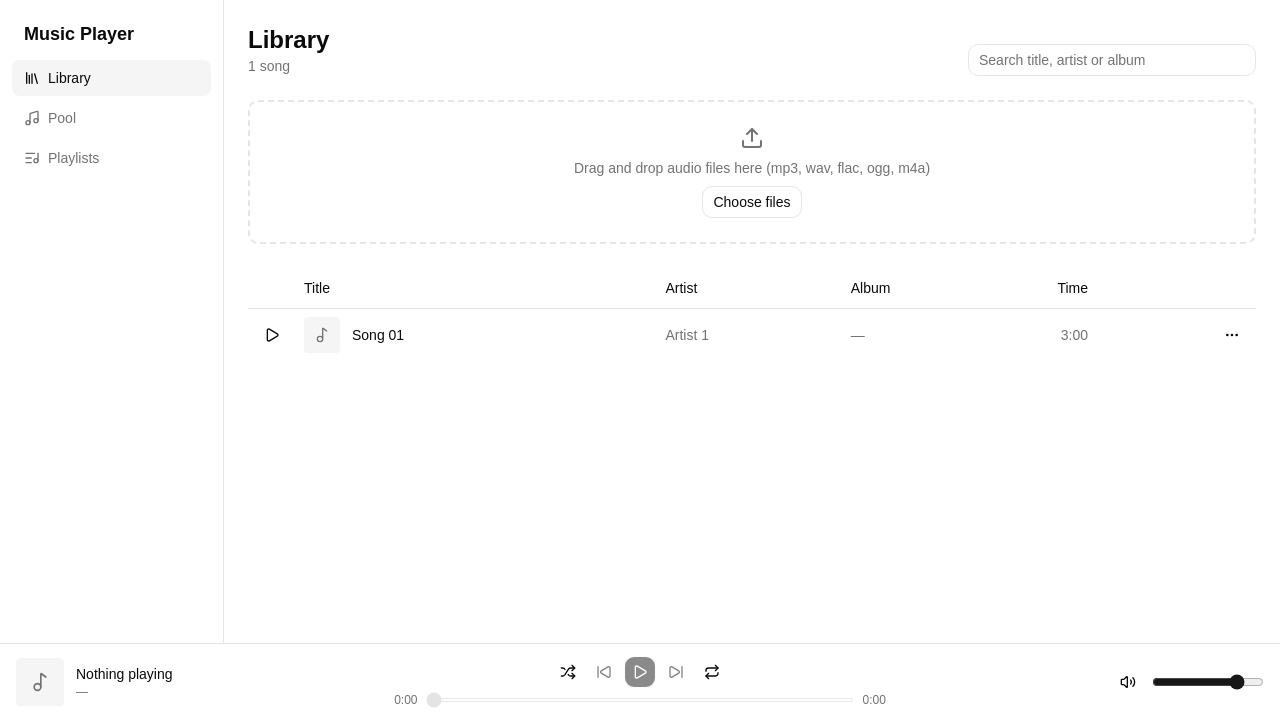
Test case: Song actions › F-LB-10 edits a song with validation
Expected: the text "Song 01" is shown, [352,324,404,344]
Click the button named "Actions for Song 01": (1232, 334) [1216,318,1248,350]
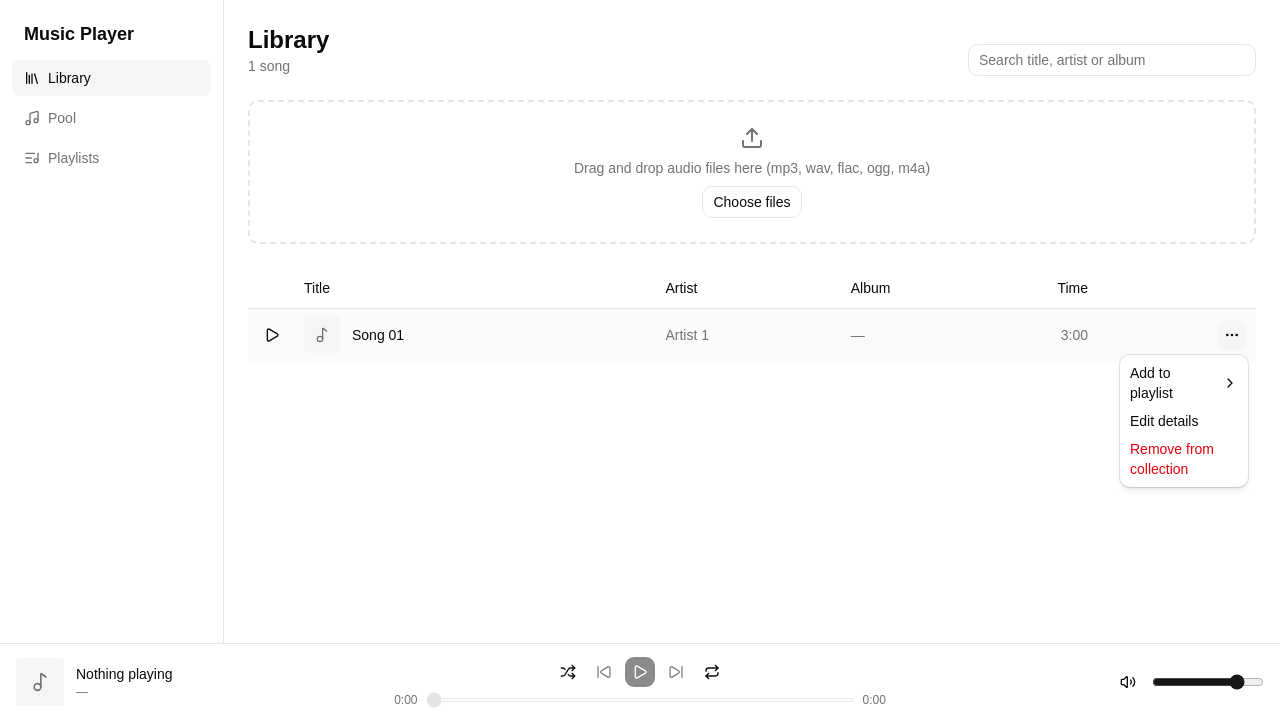
Click the menu item "Edit details": (1164, 421) [1130,413,1198,429]
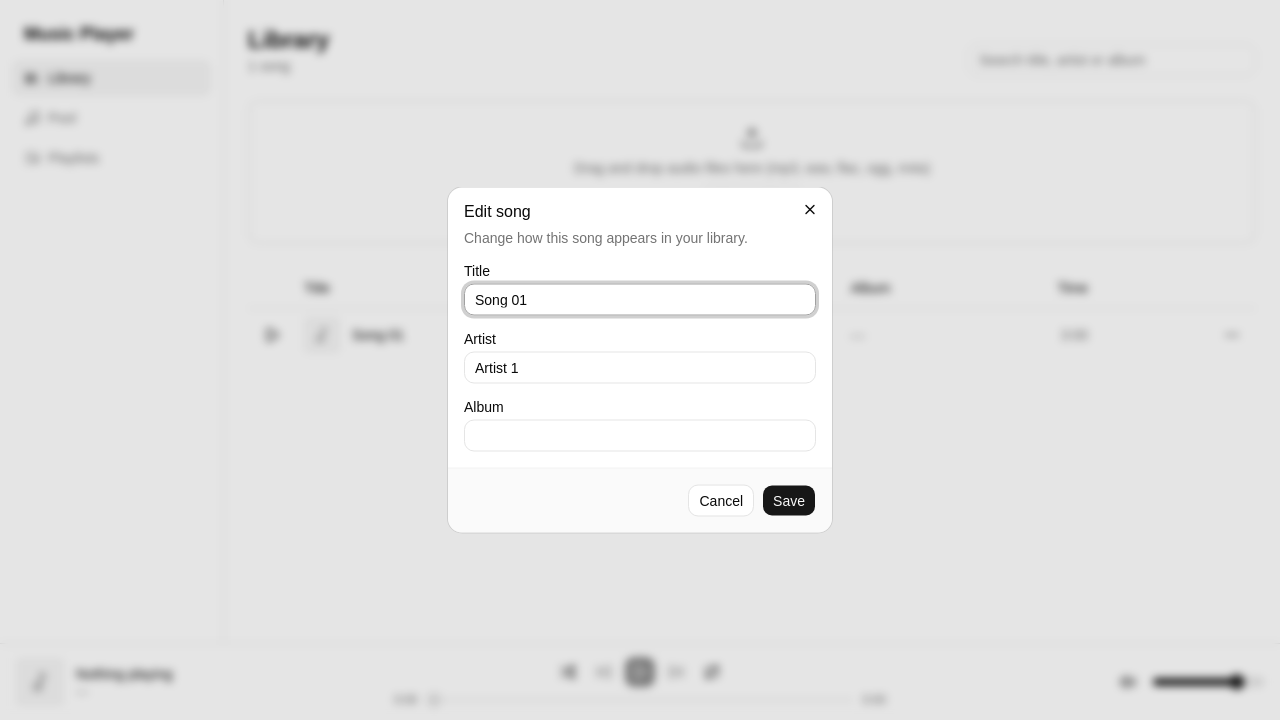
Clear the field labelled "Title": (640, 300) [464,284,816,316]
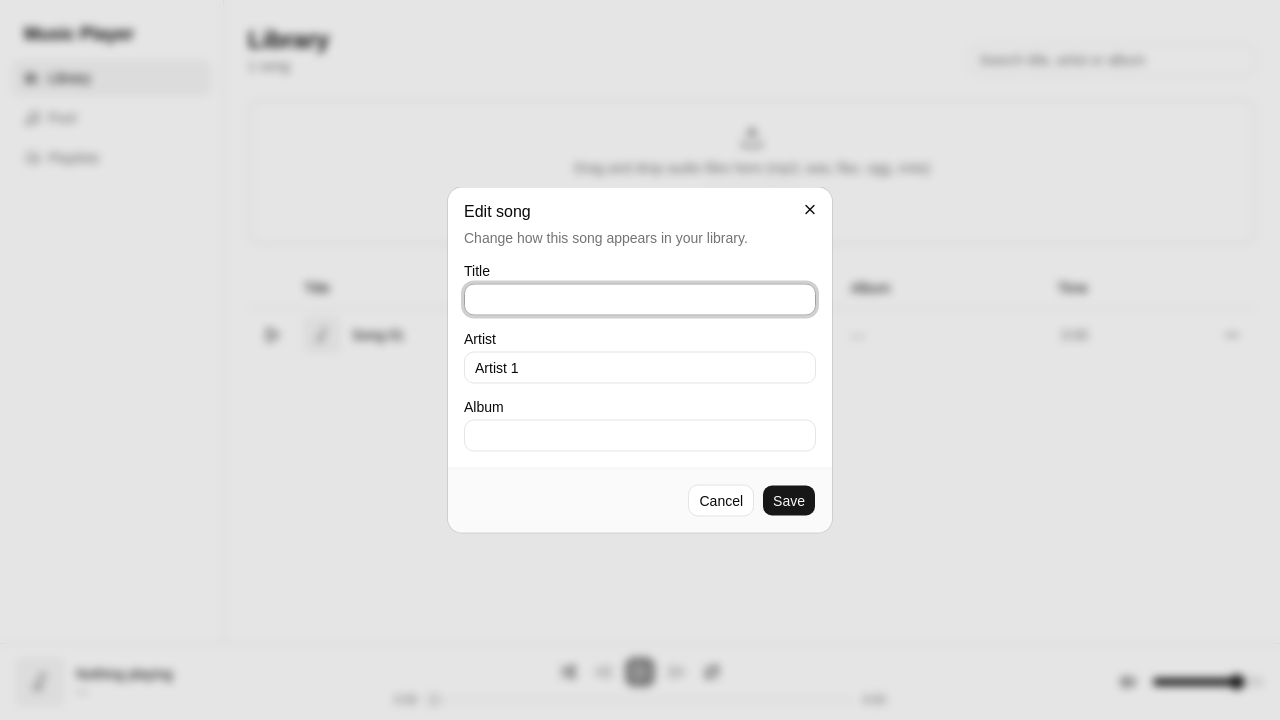
Click the button "Save": (789, 500) [762,484,816,516]
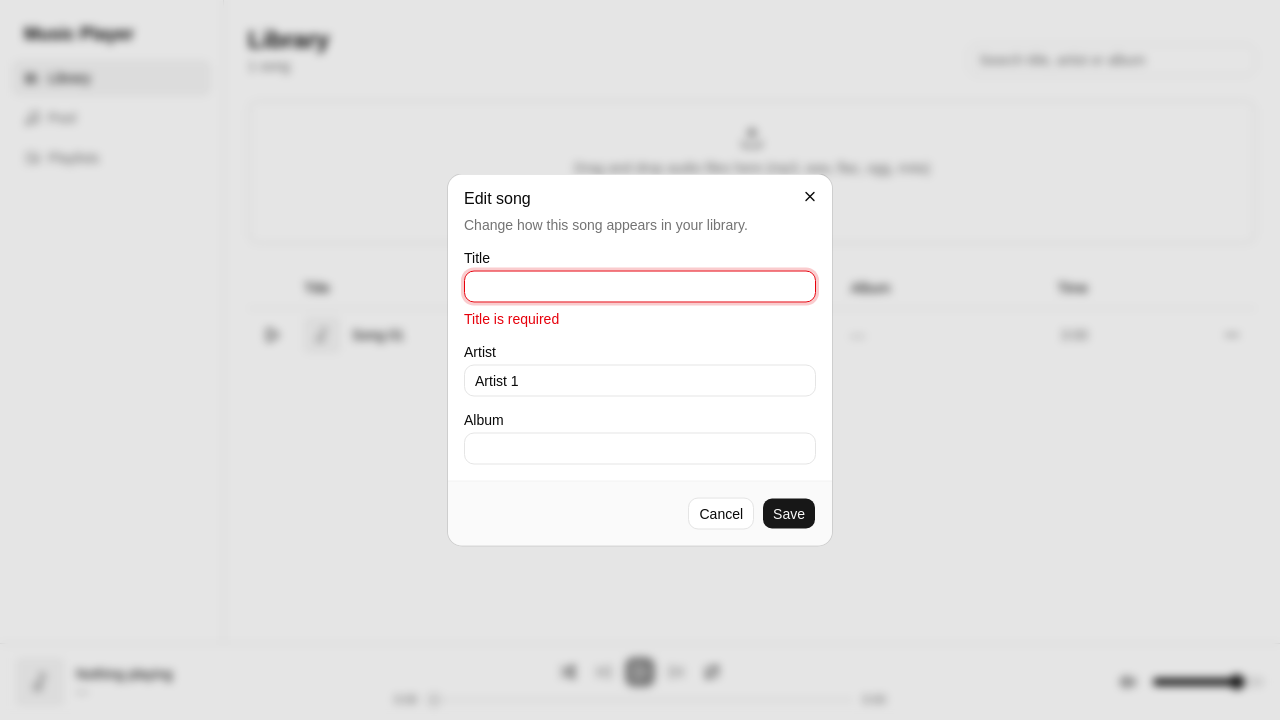
Expected: the message reads "Title is required", [464,310,559,326]
In the field labelled "Title": (640, 286) [464,270,816,302], type "Renamed Song"
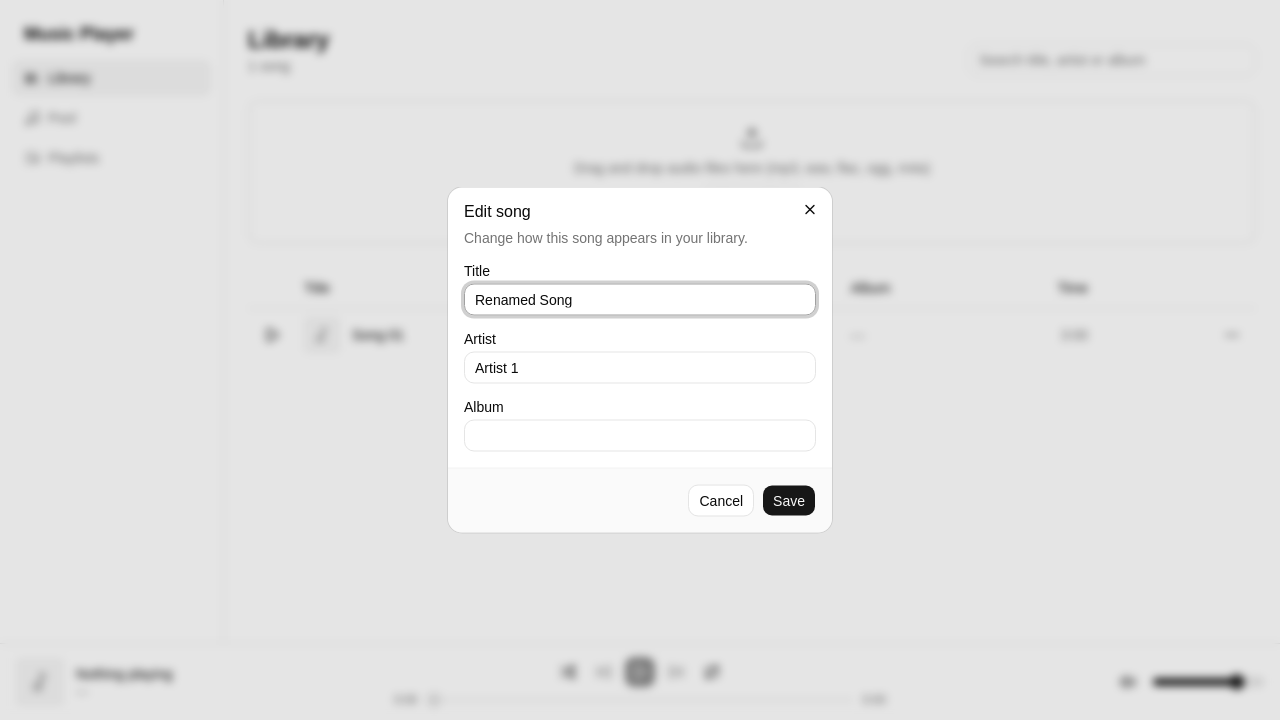
Click the button "Save": (789, 500) [762,484,816,516]
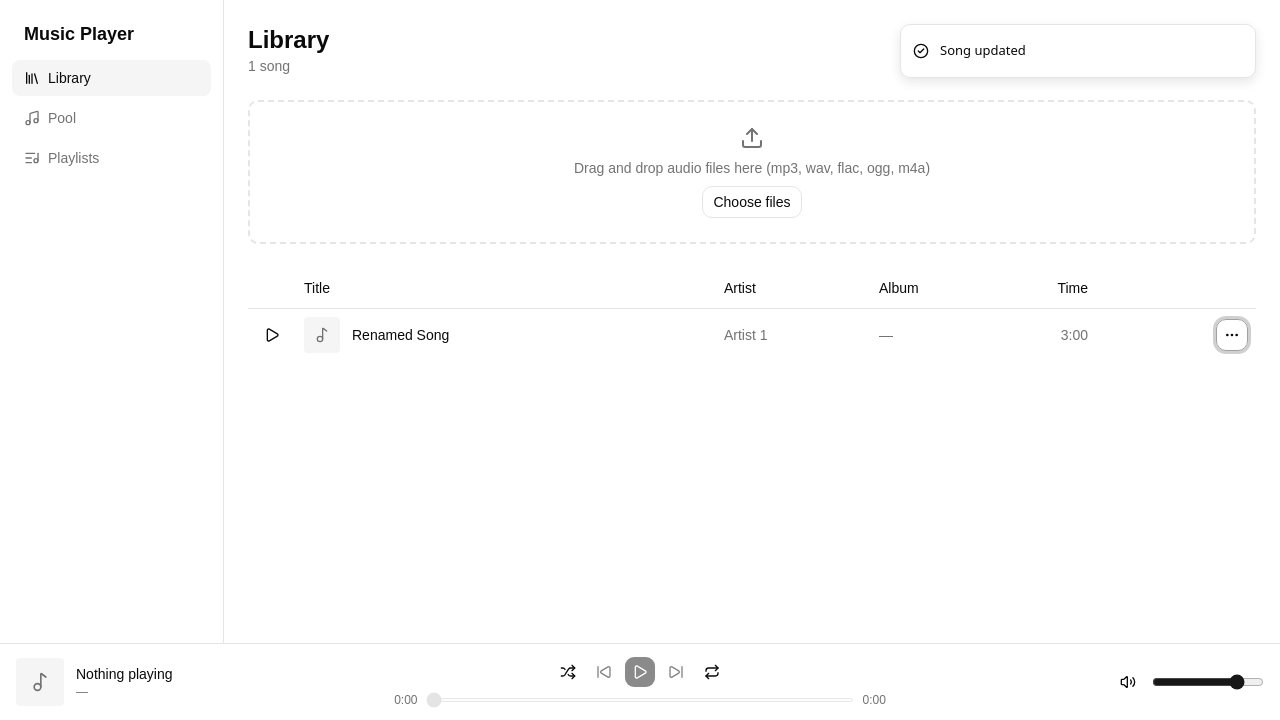
Expected: the text "Renamed Song" is shown, [352,324,449,344]
Expected: the text "Song 01" is gone
